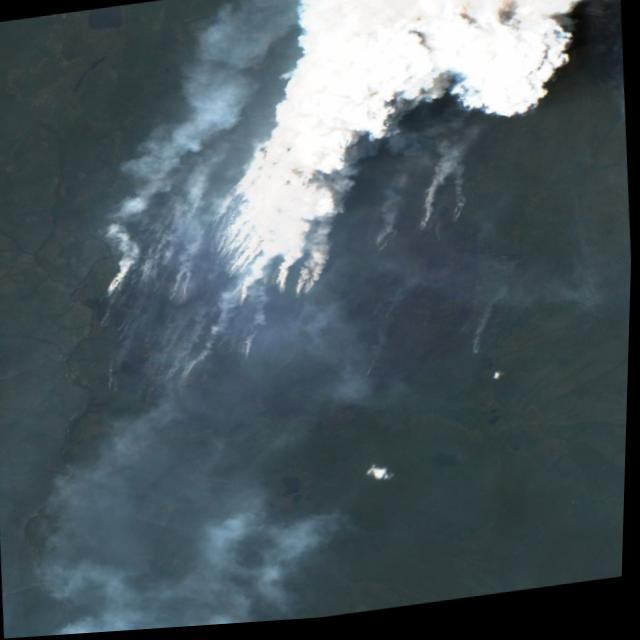fire: (86, 121, 491, 398)
